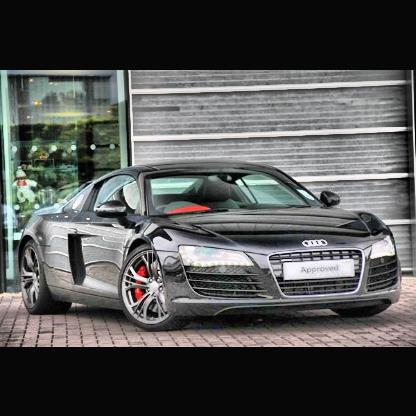Audi R8 Coupe 2012: (21, 164, 403, 333)
